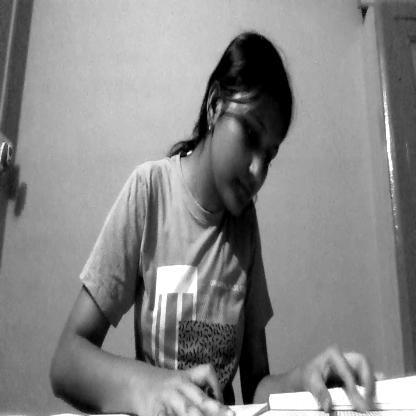Distracted: (197, 34, 301, 224)
